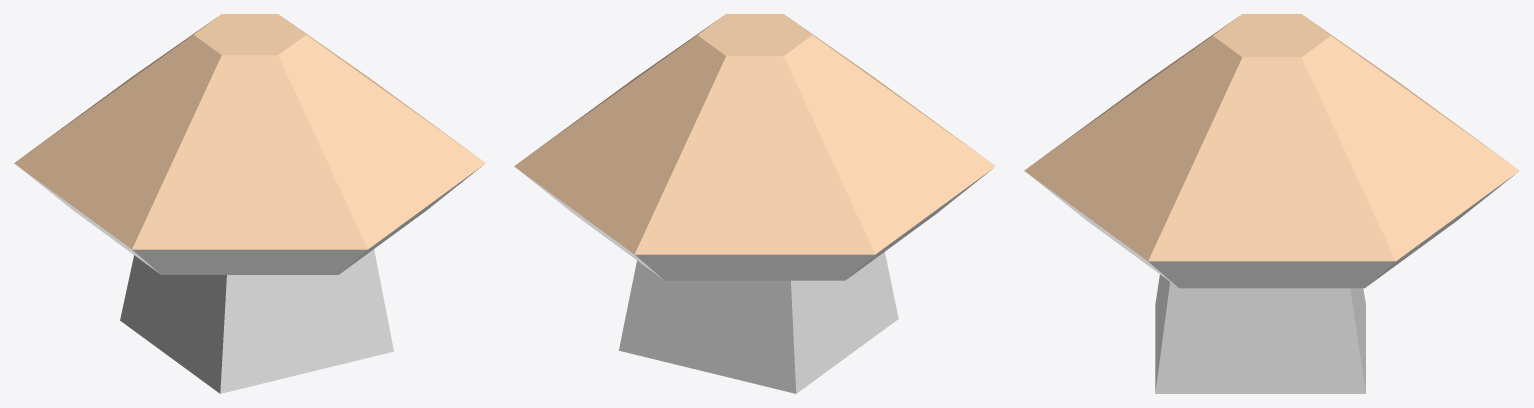
The model's file is mushroom_tan.gltf.
3 views of the same model, side by side, from view 1: azimuth 30°, elevation 25°; view 2: azimuth 150°, elevation 25°; view 3: azimuth 270°, elevation 25° (orthographic). The views are drawn at different scales.
Visible parts, largest first — view 1: mushroom_tan; view 2: mushroom_tan; view 3: mushroom_tan.
Part boxes in pixels (x1,y1,x2,y2): mushroom_tan: (14,14,485,393); mushroom_tan: (514,14,995,393); mushroom_tan: (1024,14,1519,393).
Size of the model in its own units: 0.1914 by 0.1539 by 0.221.
